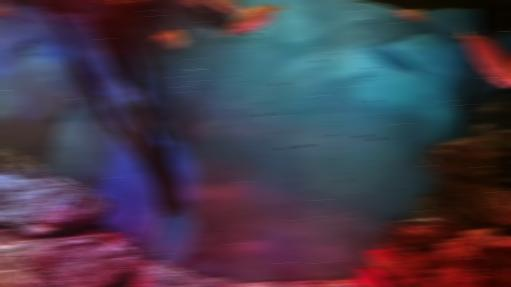Fish: (459, 29, 510, 80), (358, 46, 432, 77), (216, 3, 281, 37), (179, 2, 236, 36), (365, 244, 400, 276), (153, 24, 190, 49), (354, 266, 385, 286), (391, 8, 428, 22), (0, 2, 24, 23), (209, 0, 244, 14), (181, 0, 212, 12), (348, 277, 369, 286), (228, 283, 232, 286)
